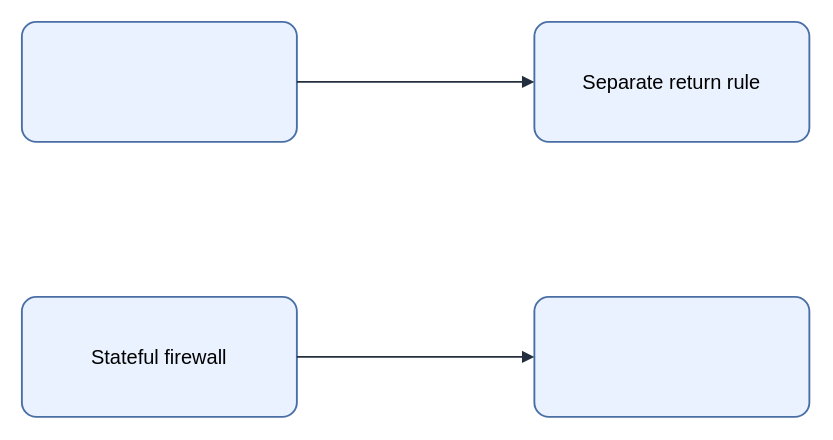
This 833x440 diagram has some shape labels left out. Each missing label, with the box of its shape:
Stateless firewall: (20, 20, 297, 142)
Tracked connection state: (533, 295, 810, 417)
